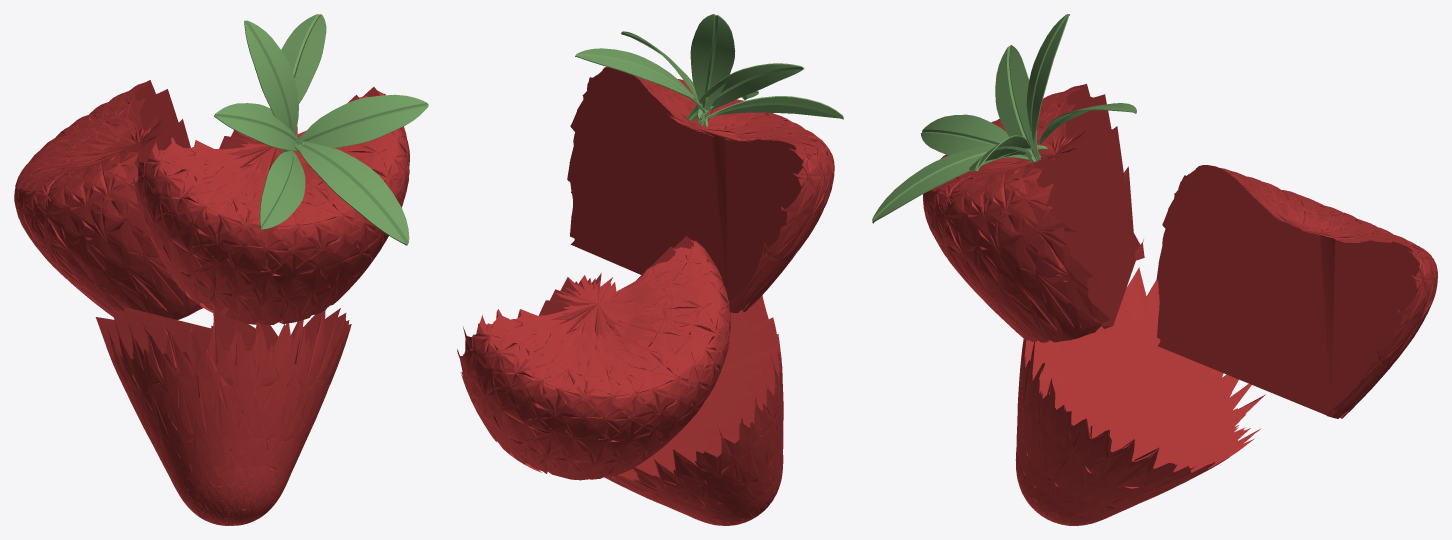
File: frutilla_partida.fbx
3 views of the same model, side by side, from view 1: azimuth 30°, elevation 25°; view 2: azimuth 150°, elevation 25°; view 3: azimuth 270°, elevation 25° (orthographic). The views are drawn at different scales.
Parts seen in each view (by area): view 1: Sphere.001, Sphere.003, Sphere.004, Circle.004, Circle.003, Circle, Circle.002, Circle.001, Circle.006; view 2: Sphere.004, Sphere.003, Sphere.001, Circle, Circle.001, Circle.006, Circle.002, Circle.003; view 3: Sphere.004, Sphere.001, Sphere.003, Circle.001, Circle.004, Circle.002, Circle, Circle.003, Circle.006.
Part boxes in pixels (x1,y1,x2,y2): Sphere.001: [95, 305, 351, 525]; Sphere.003: [133, 87, 409, 324]; Sphere.004: [14, 80, 202, 319]; Circle.004: [295, 140, 409, 245]; Circle.003: [282, 94, 428, 152]; Circle: [244, 20, 298, 134]; Circle.002: [259, 150, 305, 229]; Circle.001: [214, 103, 297, 150]; Circle.006: [281, 14, 326, 103]; Sphere.004: [457, 236, 730, 480]; Sphere.003: [567, 67, 834, 312]; Sphere.001: [604, 295, 783, 525]; Circle: [690, 14, 735, 125]; Circle.001: [686, 63, 804, 120]; Circle.006: [575, 48, 705, 113]; Circle.002: [697, 96, 843, 124]; Circle.003: [621, 31, 708, 127]; Sphere.004: [1156, 165, 1437, 418]; Sphere.001: [1015, 267, 1265, 525]; Sphere.003: [923, 83, 1144, 342]; Circle.001: [995, 45, 1040, 162]; Circle.004: [872, 144, 1047, 223]; Circle.002: [920, 114, 1028, 159]; Circle: [1026, 14, 1070, 144]; Circle.003: [969, 135, 1041, 171]; Circle.006: [1039, 103, 1136, 144].
Size of the model in its own units: 125 by 240 by 240.
